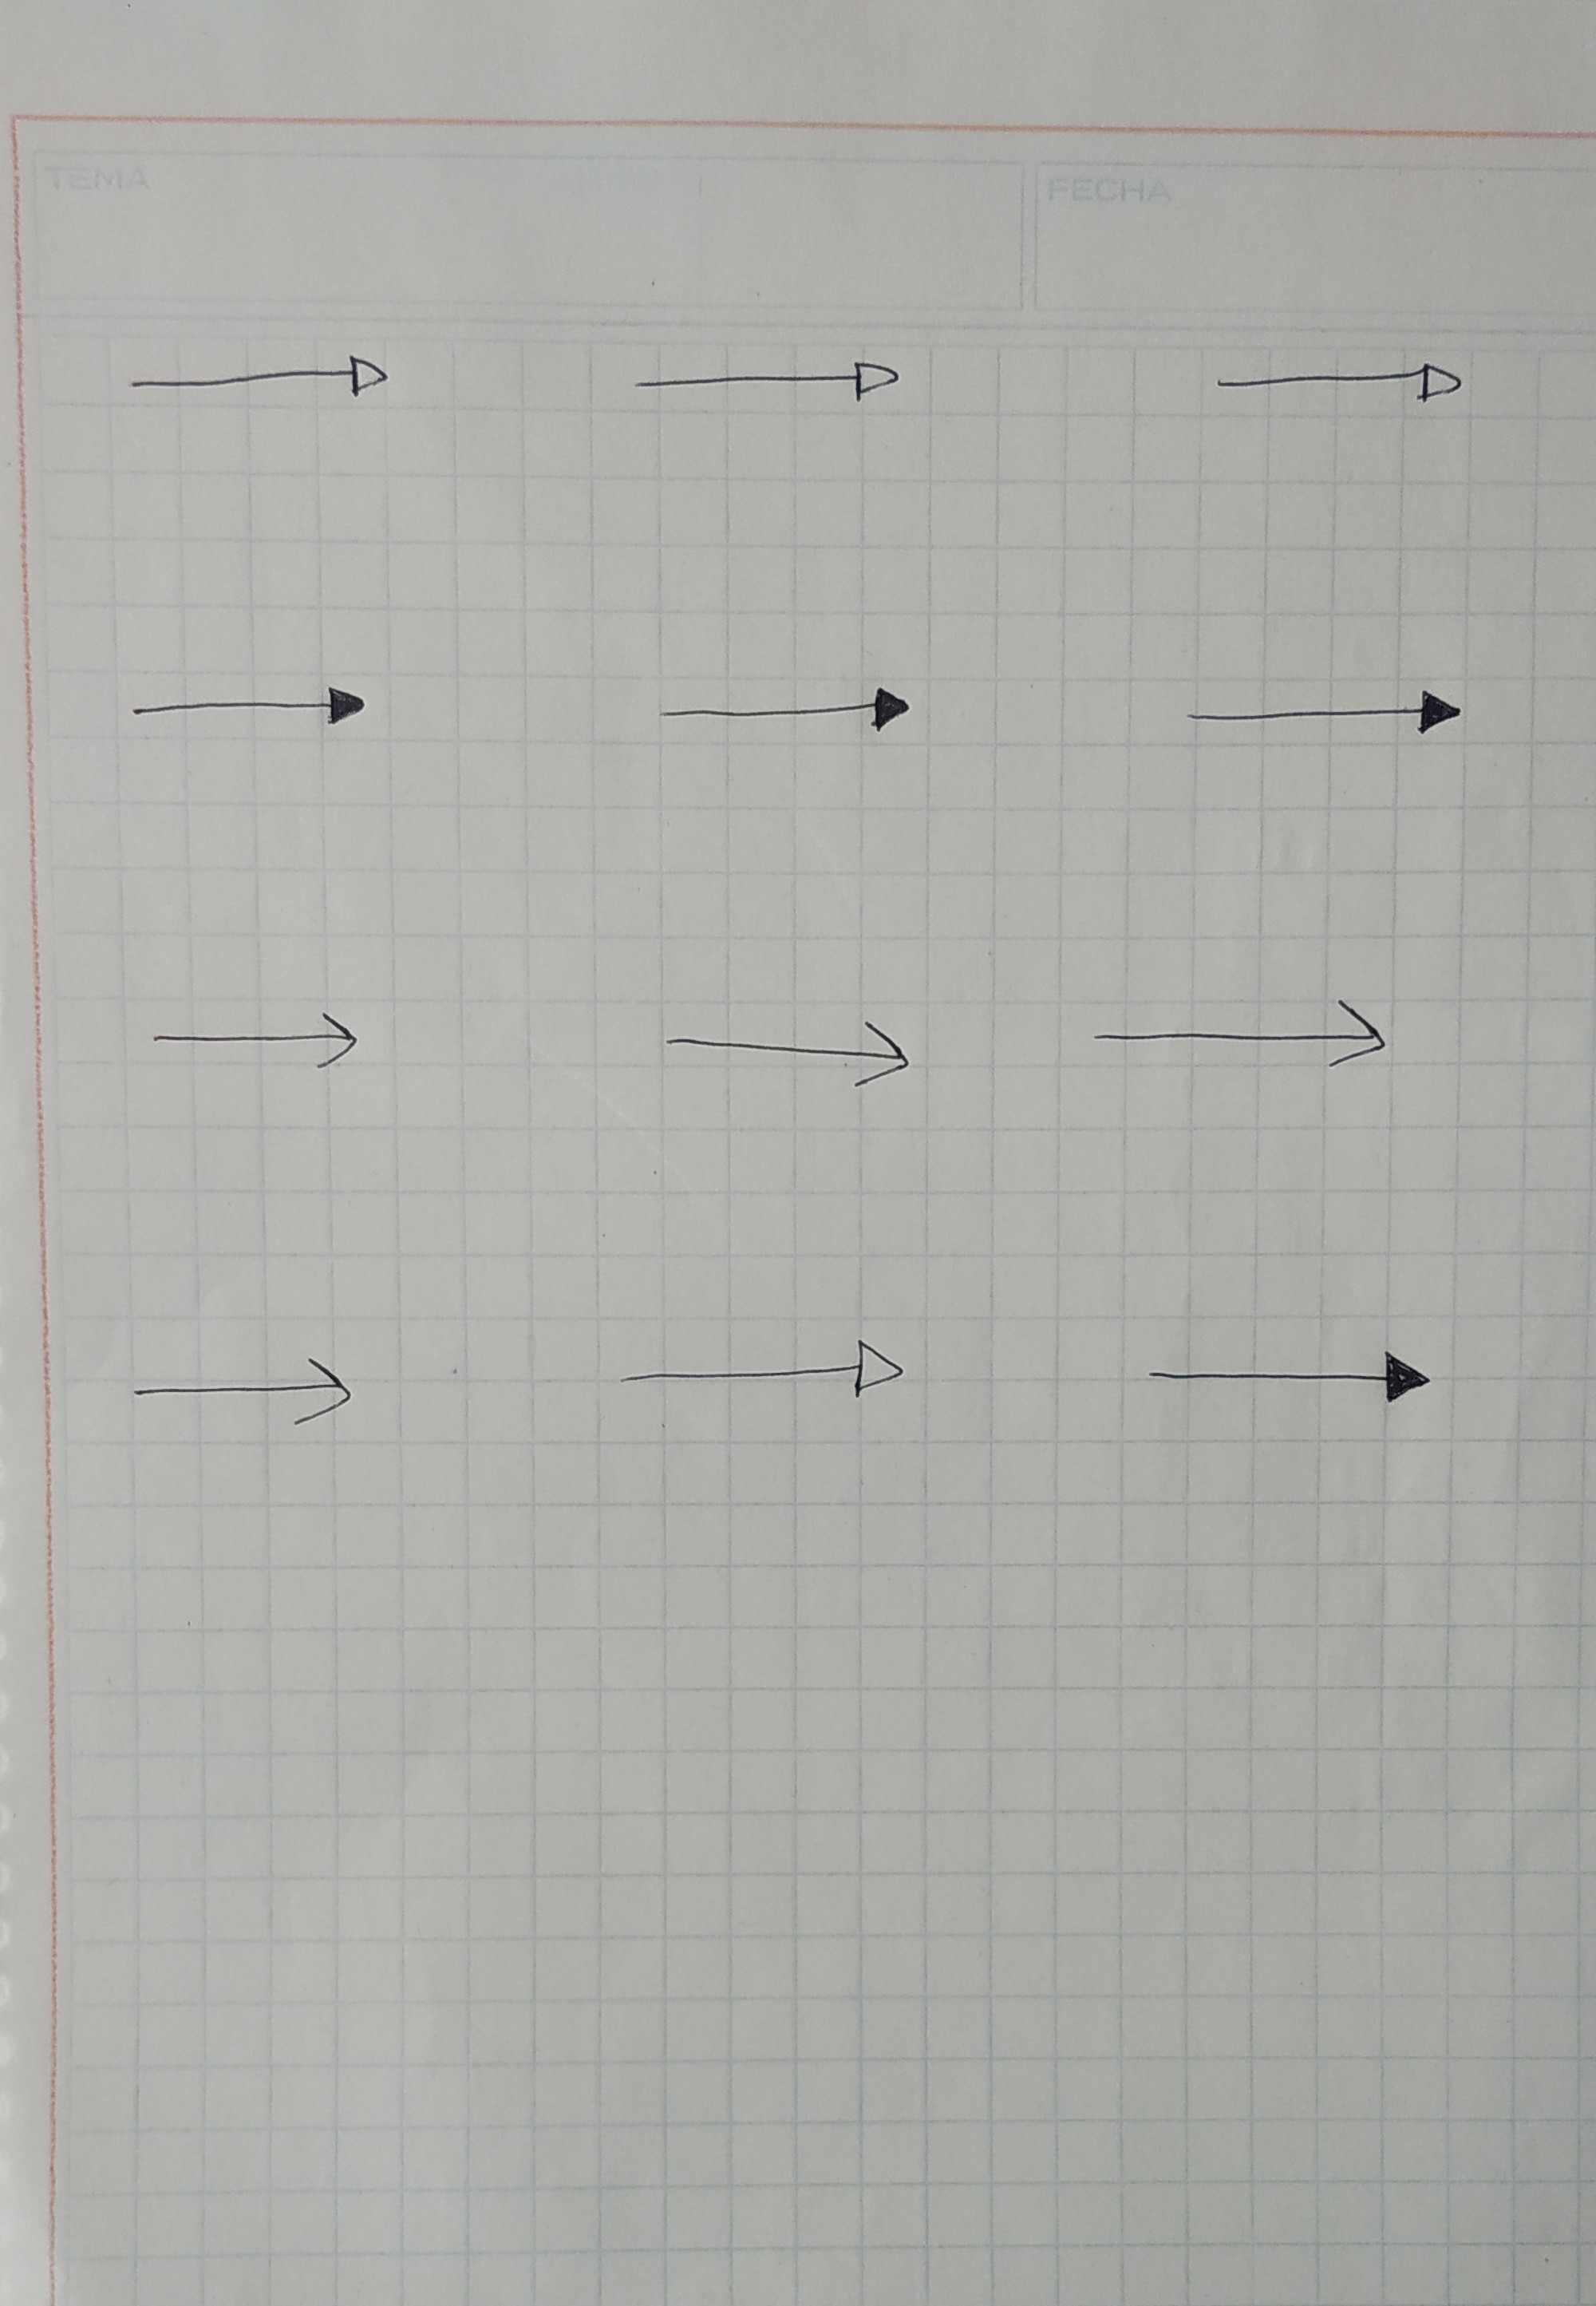arrow_line_right: (1090, 994, 1395, 1079), (655, 1004, 915, 1099), (618, 1330, 906, 1411), (1142, 1333, 1435, 1412), (1181, 682, 1465, 752), (123, 343, 398, 415), (130, 1353, 354, 1430), (653, 676, 913, 743), (632, 356, 904, 419), (149, 1004, 368, 1074), (1205, 352, 1472, 408), (119, 675, 373, 732)
